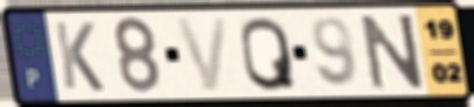8: (113, 14, 163, 97)
9: (308, 15, 361, 90)
K: (51, 19, 107, 94)
N: (357, 12, 427, 93)
Q: (239, 14, 300, 94)
V: (172, 15, 231, 94)
